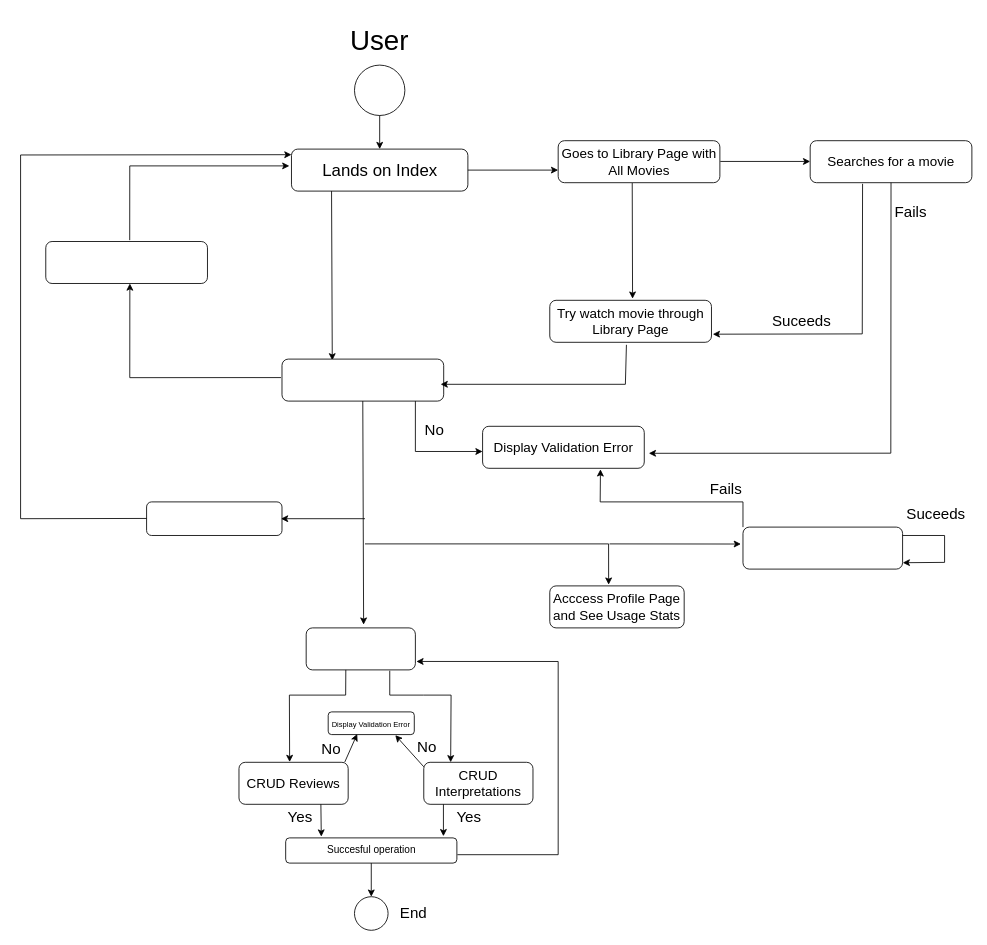
This 987x945 diagram has some shape labels left out. The centre of each missing label's shape, as x and y in pixels:
Access movie streaming view: point (360, 648)
Access Settings Page and edit personal details: point (822, 547)
Authenticates: point (362, 379)
Clicks Home Button: point (214, 518)
Logs out: point (126, 262)
